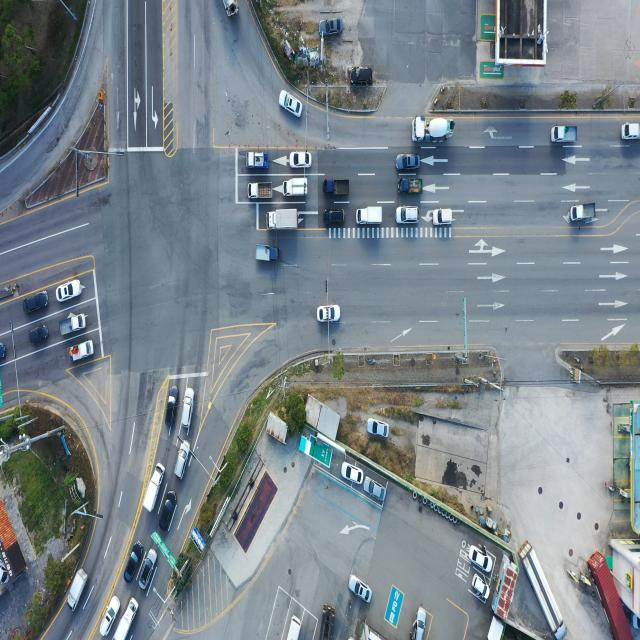car: (100, 596, 120, 638), (139, 548, 158, 591), (349, 575, 372, 605), (161, 493, 178, 533), (278, 92, 302, 120), (175, 439, 191, 481), (126, 543, 142, 584), (164, 387, 177, 432), (25, 292, 50, 315), (57, 280, 82, 303), (365, 479, 387, 504), (342, 462, 364, 485), (349, 66, 374, 86), (469, 548, 489, 573), (182, 389, 194, 429), (413, 608, 428, 640), (472, 576, 489, 603), (320, 19, 344, 38), (366, 419, 388, 439), (398, 207, 421, 226), (396, 155, 420, 173), (318, 306, 340, 324), (326, 209, 348, 227), (431, 208, 452, 226), (290, 151, 312, 168), (30, 327, 50, 344), (623, 124, 640, 142), (0, 343, 6, 363)
medium_truck: (523, 541, 567, 637), (412, 117, 454, 145), (266, 206, 299, 231), (321, 605, 337, 640), (220, 0, 239, 19)
small_bus: (283, 616, 302, 640)
small_truck: (142, 461, 164, 513), (117, 596, 140, 639), (67, 568, 88, 611), (70, 341, 96, 364), (60, 314, 86, 336), (357, 206, 384, 227), (569, 204, 596, 224), (282, 178, 308, 198), (250, 184, 275, 203), (326, 181, 352, 199), (248, 152, 272, 171), (552, 126, 576, 145), (255, 244, 279, 263), (399, 177, 423, 195)
